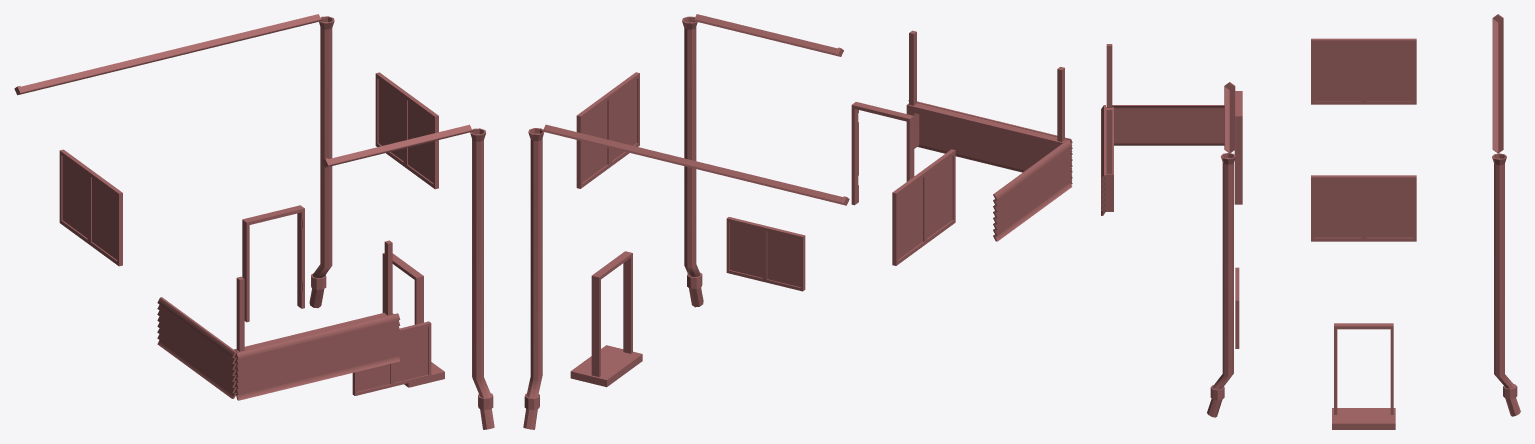
Rendered from House_decorations.fbx.
3 renders of one model, left to right at view 1: azimuth 30°, elevation 25°; view 2: azimuth 150°, elevation 25°; view 3: azimuth 270°, elevation 25°, orthographic. The views are drawn at different scales.
Parts seen in each view (by area): view 1: sheetmetal_01, tube2, tube1, window_01, window_03, sheetmetal_02, window_02, balcon_base, door_balcony_base, door_main_base; view 2: tube2, tube1, window_01, window_02, window_03, sheetmetal_01, sheetmetal_02, balcon_base, door_main_base, door_balcony_base, door_main_stair; view 3: window_01, window_03, tube2, sheetmetal_02, tube1, door_main_stair, balcon_base, door_main_base, door_balcony_base, sheetmetal_01, window_02.
Part boxes in pixels (x1=…): sheetmetal_01: x1=236, y1=313, x2=400, y2=400; tube2: x1=14, y1=14, x2=334, y2=308; tube1: x1=322, y1=124, x2=494, y2=429; window_01: x1=59, y1=149, x2=122, y2=266; window_03: x1=375, y1=72, x2=438, y2=189; sheetmetal_02: x1=157, y1=297, x2=236, y2=398; window_02: x1=352, y1=321, x2=431, y2=395; balcon_base: x1=234, y1=240, x2=393, y2=392; door_balcony_base: x1=242, y1=205, x2=304, y2=322; door_main_base: x1=382, y1=253, x2=423, y2=324; tube2: x1=523, y1=124, x2=849, y2=429; tube1: x1=682, y1=14, x2=843, y2=307; window_01: x1=892, y1=149, x2=955, y2=265; window_02: x1=726, y1=217, x2=805, y2=291; window_03: x1=576, y1=72, x2=639, y2=188; sheetmetal_01: x1=908, y1=100, x2=1072, y2=184; sheetmetal_02: x1=993, y1=140, x2=1072, y2=241; balcon_base: x1=906, y1=30, x2=1066, y2=148; door_main_base: x1=591, y1=251, x2=632, y2=376; door_balcony_base: x1=851, y1=102, x2=914, y2=205; door_main_stair: x1=570, y1=345, x2=642, y2=387; window_01: x1=1311, y1=38, x2=1416, y2=104; window_03: x1=1311, y1=175, x2=1416, y2=241; tube2: x1=1492, y1=14, x2=1520, y2=416; sheetmetal_02: x1=1112, y1=105, x2=1224, y2=145; tube1: x1=1207, y1=82, x2=1235, y2=417; door_main_stair: x1=1332, y1=408, x2=1395, y2=429; balcon_base: x1=1105, y1=44, x2=1113, y2=211; door_main_base: x1=1334, y1=323, x2=1393, y2=414; door_balcony_base: x1=1234, y1=91, x2=1242, y2=204; sheetmetal_01: x1=1101, y1=105, x2=1105, y2=215; window_02: x1=1235, y1=267, x2=1239, y2=348.
Bounding box in the file's own units: 2.21 × 1.9 × 2.66.
